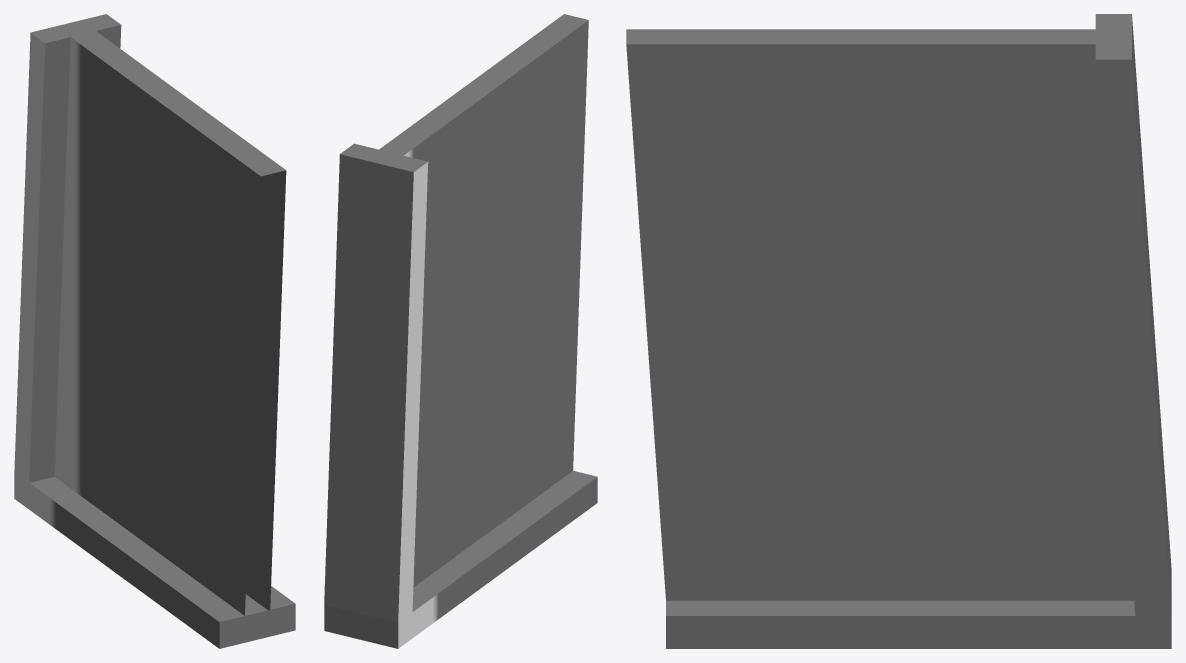
File: FSP-S6-Trigger.obj
The picture shows the model from 3 angles, left to right: view 1: azimuth 30°, elevation 25°; view 2: azimuth 150°, elevation 25°; view 3: azimuth 270°, elevation 25°; orthographic projection. The views are drawn at different scales.
Parts seen in each view (by area): view 1: FSP-S6-Trigger; view 2: FSP-S6-Trigger; view 3: FSP-S6-Trigger.
Part boxes in pixels (x1,y1,x2,y2): FSP-S6-Trigger: [14, 14, 295, 648]; FSP-S6-Trigger: [324, 14, 597, 648]; FSP-S6-Trigger: [626, 14, 1171, 648].
Bounding box in the file's own units: 0.03 × 0.1803 × 0.1512.
